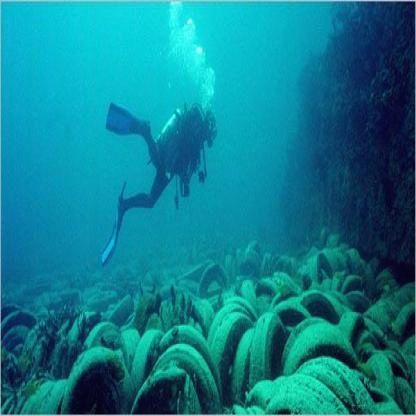tire: (3, 235, 416, 416)
